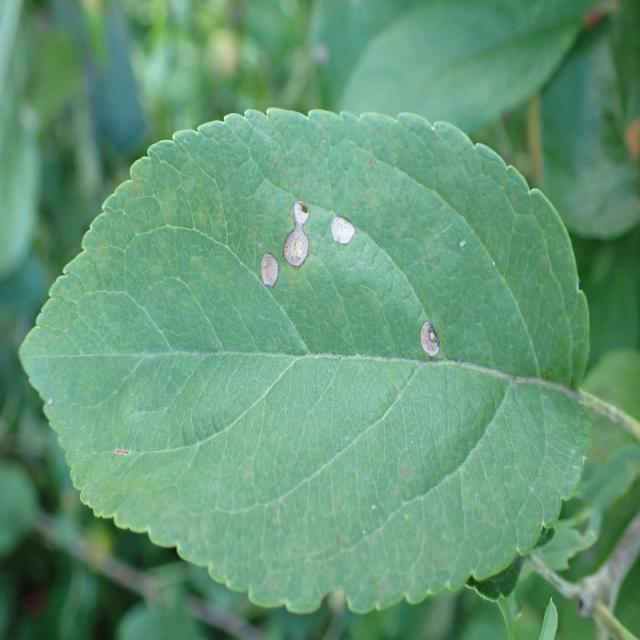Black Rot: (403, 298, 452, 397), (282, 189, 320, 266), (324, 202, 364, 256), (253, 247, 279, 299)
